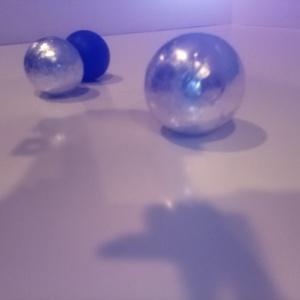alive_ball: (145, 31, 246, 137), (23, 36, 84, 96)
dead_ball: (60, 30, 110, 81)
